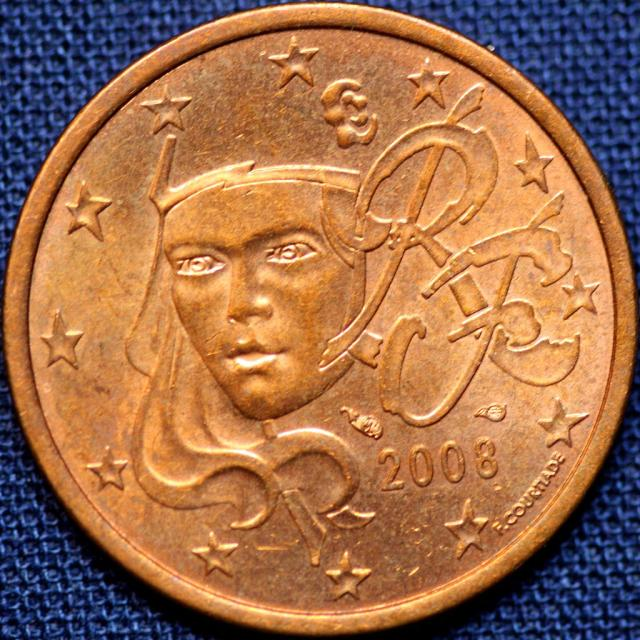Coin: (5, 0, 640, 636)
